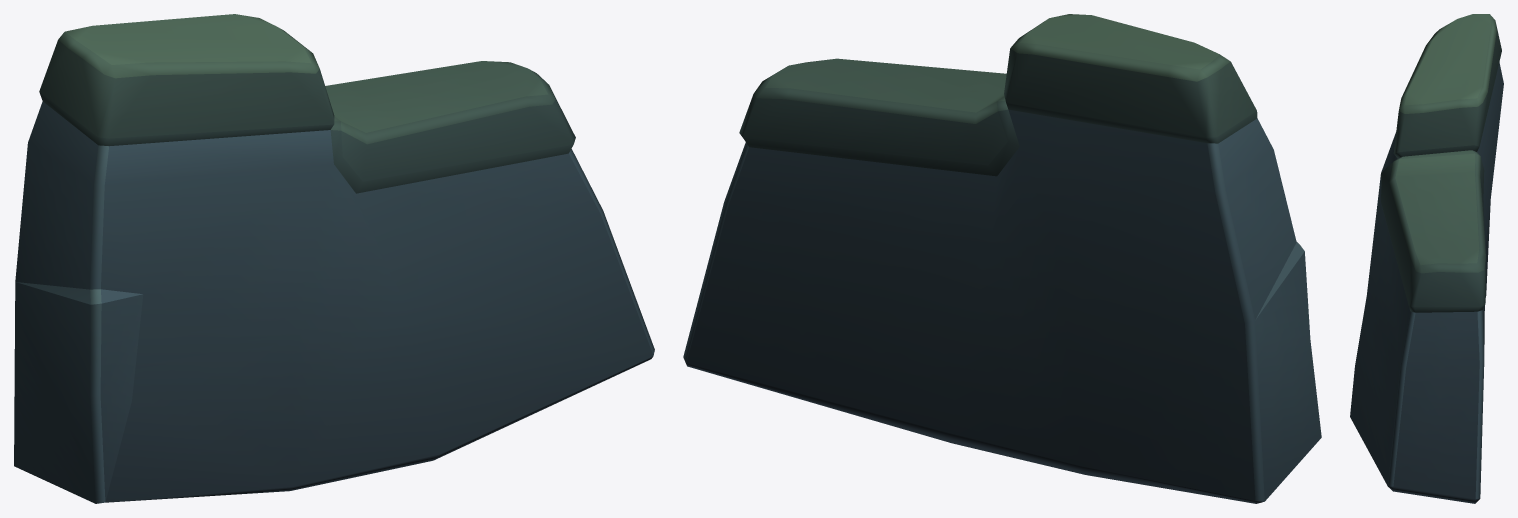
Rendered from rock_large_grass_06.fbx.
3 renders of one model, left to right at view 1: azimuth 30°, elevation 25°; view 2: azimuth 150°, elevation 25°; view 3: azimuth 270°, elevation 25°, orthographic. The views are drawn at different scales.
Visible parts, largest first — view 1: rock_large_grass_06; view 2: rock_large_grass_06; view 3: rock_large_grass_06.
Part boxes in pixels (bbox=[...]): rock_large_grass_06: bbox=[14, 14, 654, 503]; rock_large_grass_06: bbox=[683, 14, 1321, 503]; rock_large_grass_06: bbox=[1350, 14, 1503, 503].
Bounding box in the file's own units: 1684 × 1234 × 534.
